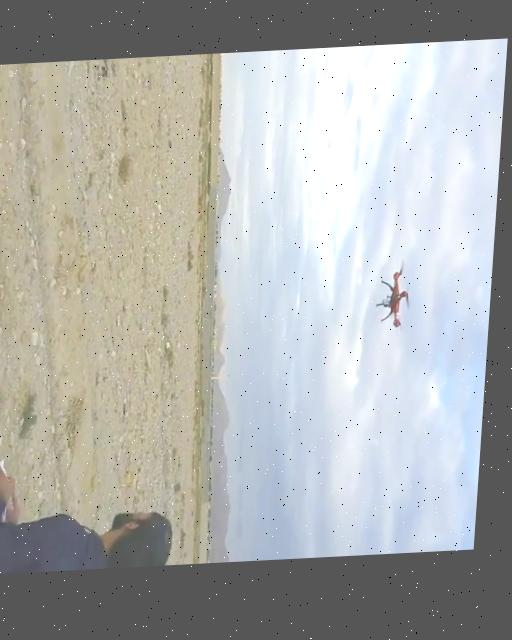drone: (376, 257, 421, 343)
